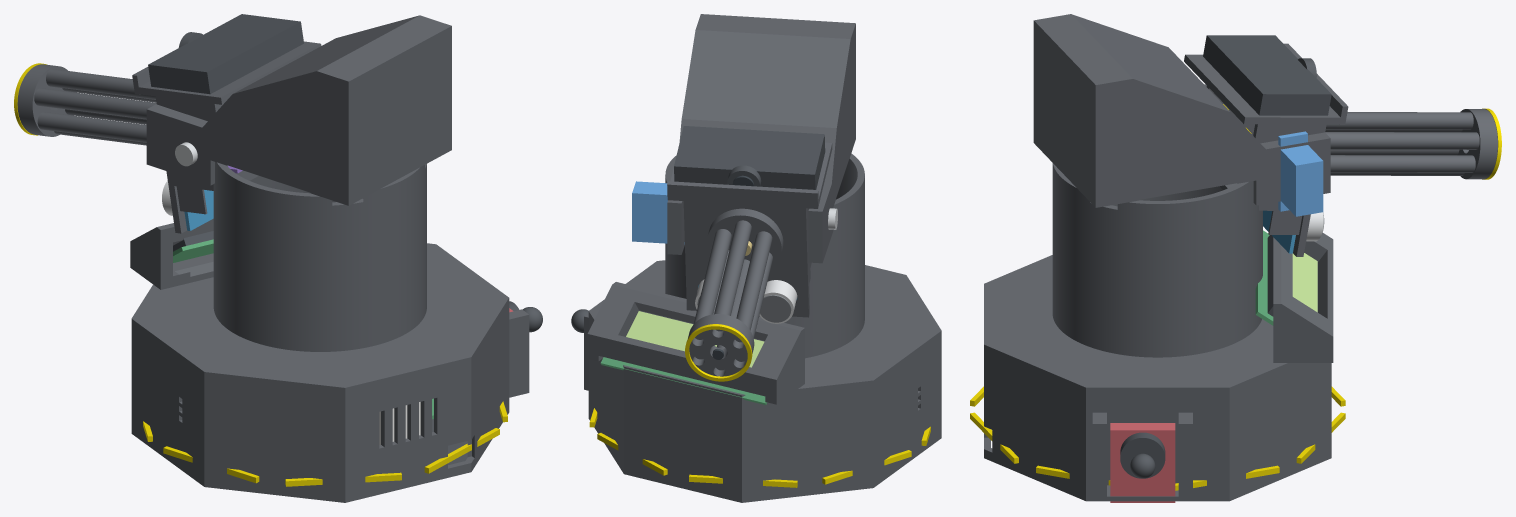
The model's file is torreta_v3.glb.
3 renders of one model, left to right at view 1: azimuth 30°, elevation 25°; view 2: azimuth 150°, elevation 25°; view 3: azimuth 270°, elevation 25°, orthographic. The views are drawn at different scales.
Visible parts, largest first — view 1: =>[0:1:1:4], =>[0:1:1:29], =>[0:1:1:38], =>[0:1:1:108], =>[0:1:1:36], =>[0:1:1:24], =>[0:1:1:12], =>[0:1:1:14], =>[0:1:1:60]; view 2: =>[0:1:1:4], =>[0:1:1:29], =>[0:1:1:38], =>[0:1:1:36], =>[0:1:1:108], =>[0:1:1:78], =>[0:1:1:64], =>[0:1:1:24], =>[0:1:1:60], =>[0:1:1:40], =>[0:1:1:26], =>[0:1:1:100] (+4 smaller); view 3: =>[0:1:1:29], =>[0:1:1:4], =>[0:1:1:38], =>[0:1:1:108], =>[0:1:1:36], =>[0:1:1:70], =>[0:1:1:78], =>[0:1:1:26], =>[0:1:1:72], =>[0:1:1:64], =>[0:1:1:60], =>[0:1:1:62].
Part boxes in pixels (x1,y1,x2,y2): =>[0:1:1:4]: (130, 218, 529, 502); =>[0:1:1:29]: (200, 15, 451, 351); =>[0:1:1:38]: (17, 64, 156, 145); =>[0:1:1:108]: (148, 14, 303, 94); =>[0:1:1:36]: (132, 41, 321, 233); =>[0:1:1:24]: (146, 104, 214, 185); =>[0:1:1:12]: (424, 428, 499, 473); =>[0:1:1:14]: (285, 472, 401, 486); =>[0:1:1:60]: (173, 239, 213, 262); =>[0:1:1:4]: (584, 260, 941, 502); =>[0:1:1:29]: (665, 14, 864, 358); =>[0:1:1:38]: (688, 208, 783, 376); =>[0:1:1:36]: (667, 142, 832, 317); =>[0:1:1:108]: (674, 126, 825, 189); =>[0:1:1:78]: (632, 181, 684, 244); =>[0:1:1:64]: (626, 311, 764, 367); =>[0:1:1:24]: (808, 180, 833, 263); =>[0:1:1:60]: (600, 357, 767, 404); =>[0:1:1:40]: (685, 324, 752, 381); =>[0:1:1:26]: (667, 200, 684, 254); =>[0:1:1:100]: (760, 295, 791, 322); =>[0:1:1:29]: (1033, 14, 1267, 357); =>[0:1:1:4]: (984, 232, 1333, 501); =>[0:1:1:38]: (1325, 109, 1497, 179); =>[0:1:1:108]: (1203, 35, 1331, 115); =>[0:1:1:36]: (1184, 43, 1348, 256); =>[0:1:1:70]: (1110, 423, 1175, 502); =>[0:1:1:78]: (1280, 145, 1323, 216); =>[0:1:1:26]: (1253, 132, 1330, 205); =>[0:1:1:72]: (1120, 432, 1165, 478); =>[0:1:1:64]: (1292, 253, 1317, 312); =>[0:1:1:60]: (1255, 230, 1273, 325); =>[0:1:1:62]: (1267, 235, 1317, 316).
Size of the model in its own units: 0.1719 by 0.172 by 0.2121.
